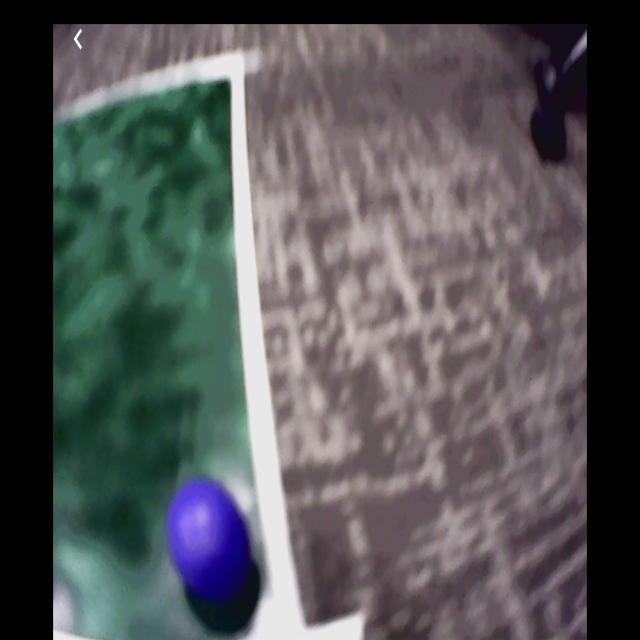ball: (171, 480, 252, 602)
